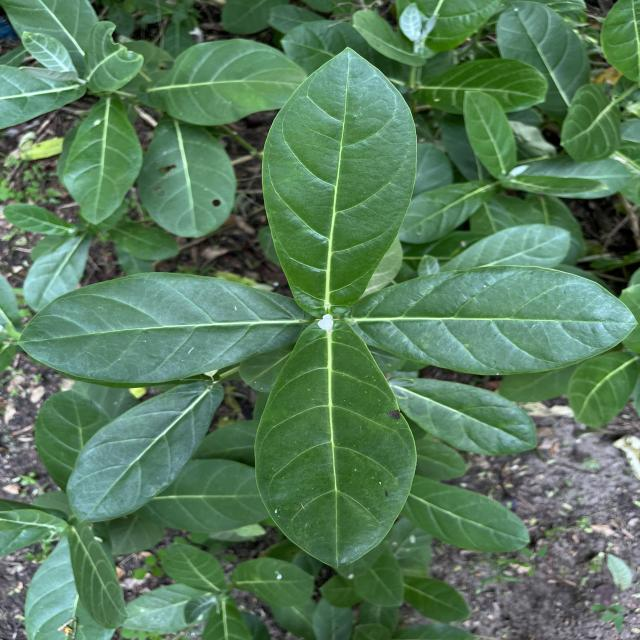Calotropis gigantea: (259, 46, 420, 316), (252, 314, 418, 571), (15, 270, 308, 386), (347, 263, 640, 377), (64, 380, 228, 526), (154, 36, 312, 127), (138, 114, 239, 238), (394, 376, 538, 457), (66, 98, 146, 226), (400, 476, 530, 554), (560, 82, 622, 164), (461, 89, 516, 180)
